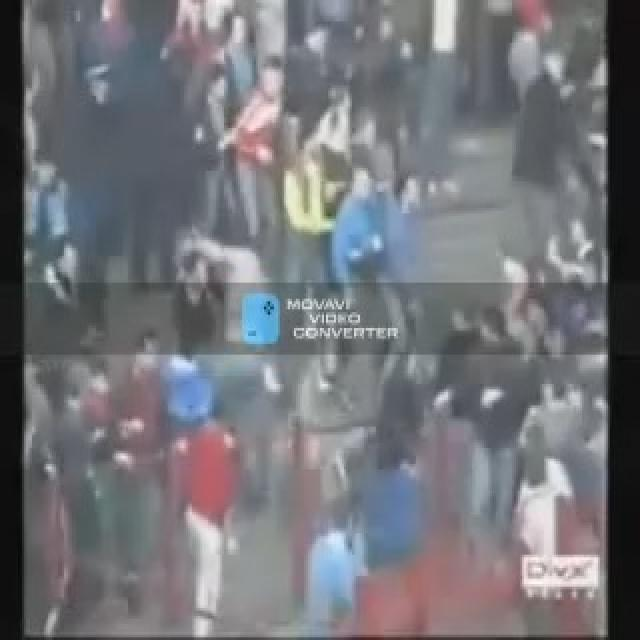non-voilence: (20, 0, 612, 637)
